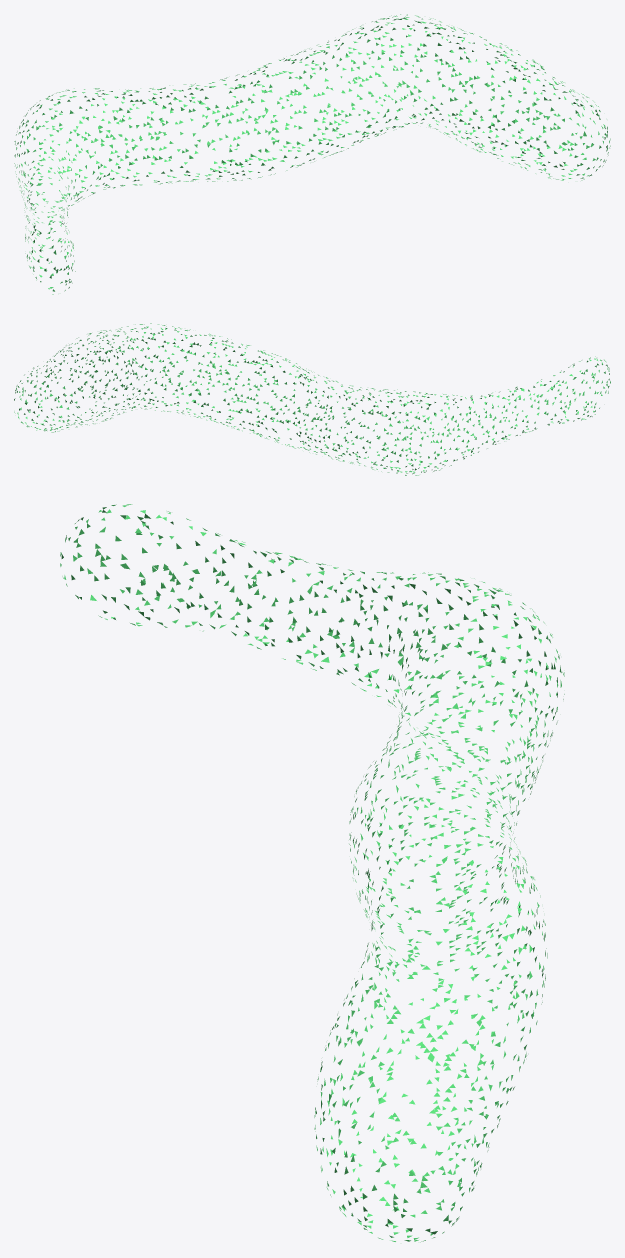
The model's file is morph_020.glb.
The picture shows the model from 3 angles, top to bottom: view 1: azimuth 30°, elevation 25°; view 2: azimuth 150°, elevation 25°; view 3: azimuth 270°, elevation 25°; orthographic projection. The views are drawn at different scales.
Bounding box in the file's own units: 124 × 32.57 × 52.96.
